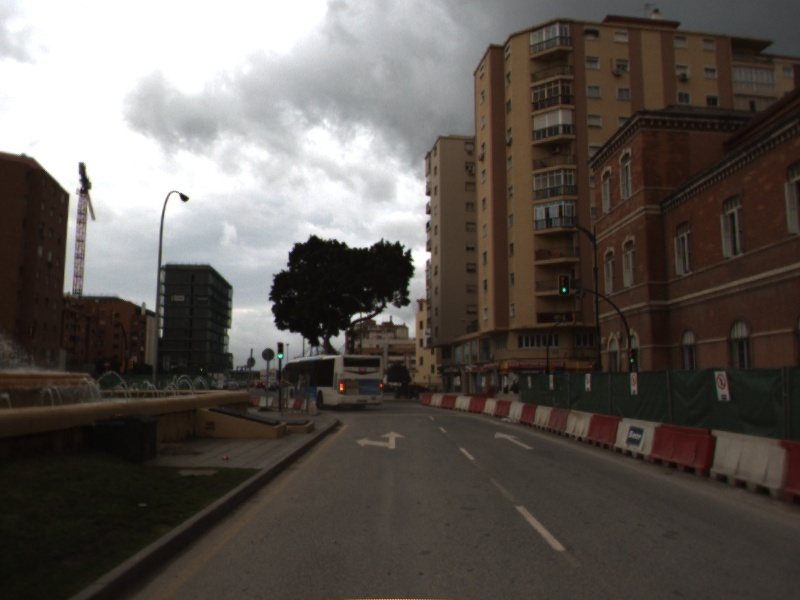STRAIGHT: (493, 429, 536, 451)
STRAIGHT_LEFT: (354, 430, 407, 450)
